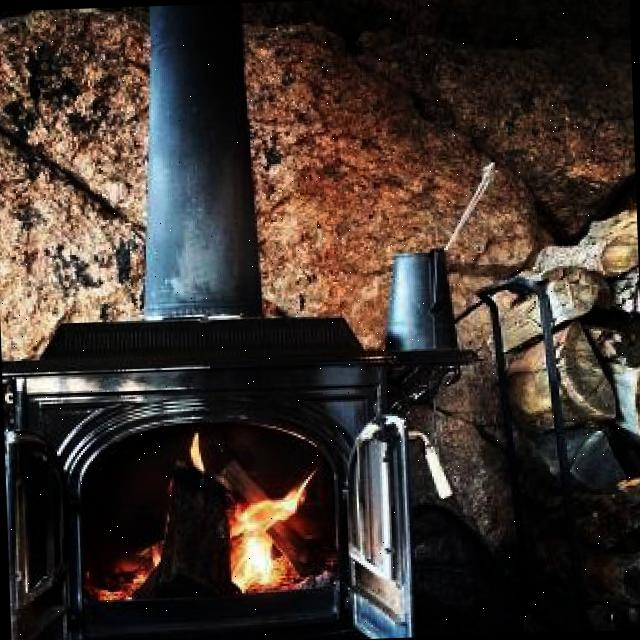fire: (220, 428, 326, 592), (89, 528, 172, 608)
